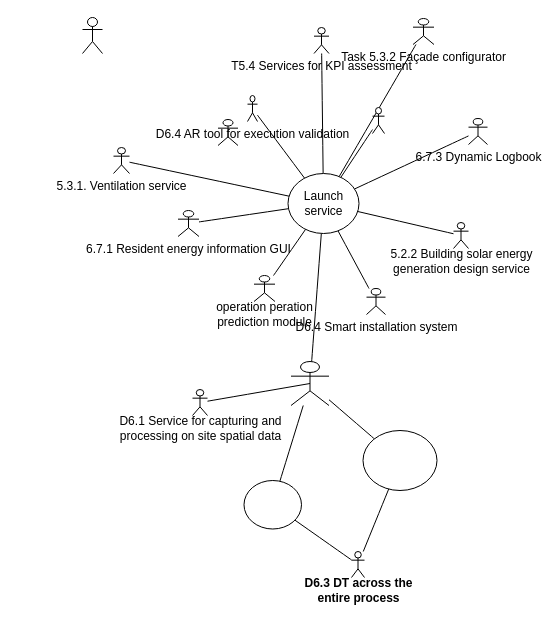
The diagram is 558 pixels wide and 622 high, and some of its shapes have lost their labels. The centre of each missing label's shape, as x and y in pixels:
"6.7.2 Building operator dashboard" belongs at (x=378, y=120).
"CDE" belongs at (x=309, y=383).
"D6.5 Metamodel for building" belongs at (x=92, y=35).
"ducts' integration service" belongs at (x=227, y=132).
"Load data" belongs at (x=399, y=460).
"load IFC data" belongs at (x=272, y=504).
